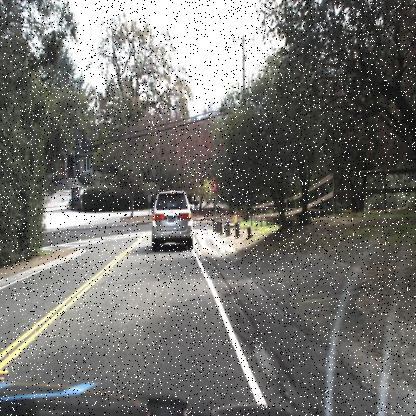car: (150, 189, 192, 255)
